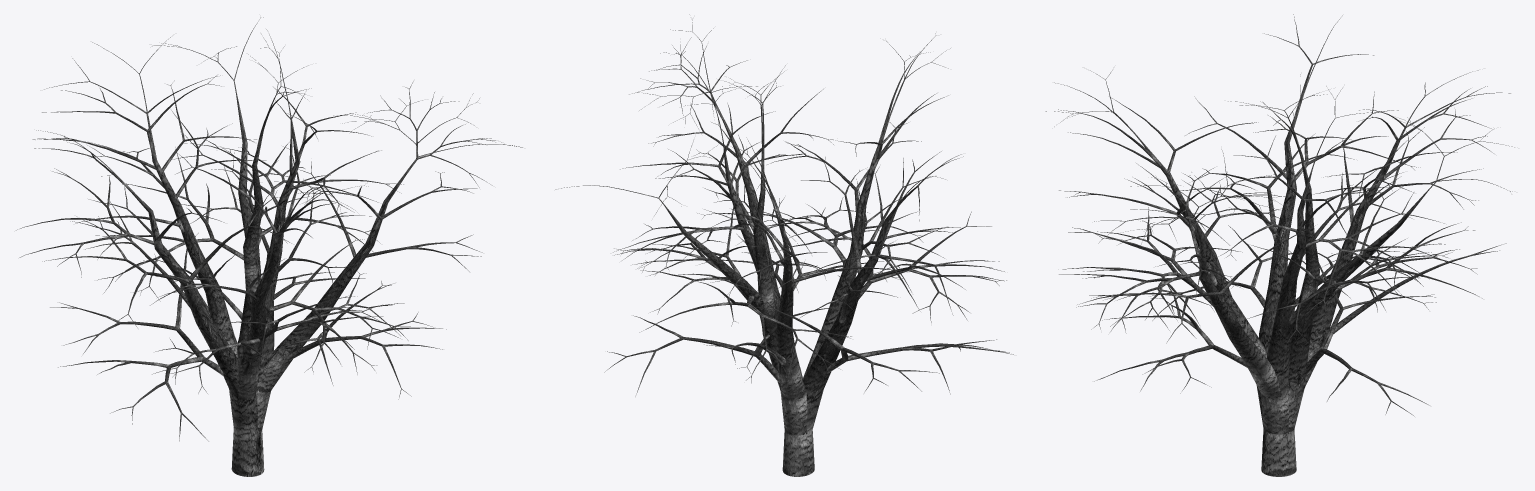
The model's file is tree2.fbx.
3 views of the same model, side by side, from view 1: azimuth 30°, elevation 25°; view 2: azimuth 150°, elevation 25°; view 3: azimuth 270°, elevation 25° (orthographic). The views are drawn at different scales.
Parts seen in each view (by area): view 1: tree.001; view 2: tree.001; view 3: tree.001.
Boxes of the visible parts, x1=… form: tree.001: x1=16, y1=17, x2=522, y2=476; tree.001: x1=555, y1=14, x2=1013, y2=476; tree.001: x1=1045, y1=14, x2=1514, y2=476.
Size of the model in its own units: 1694 by 1602 by 1690.
1 material, 1 textured.
